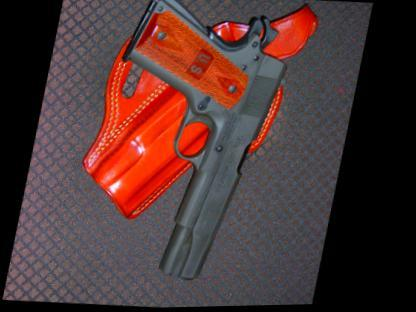pistol: (87, 0, 306, 289)
